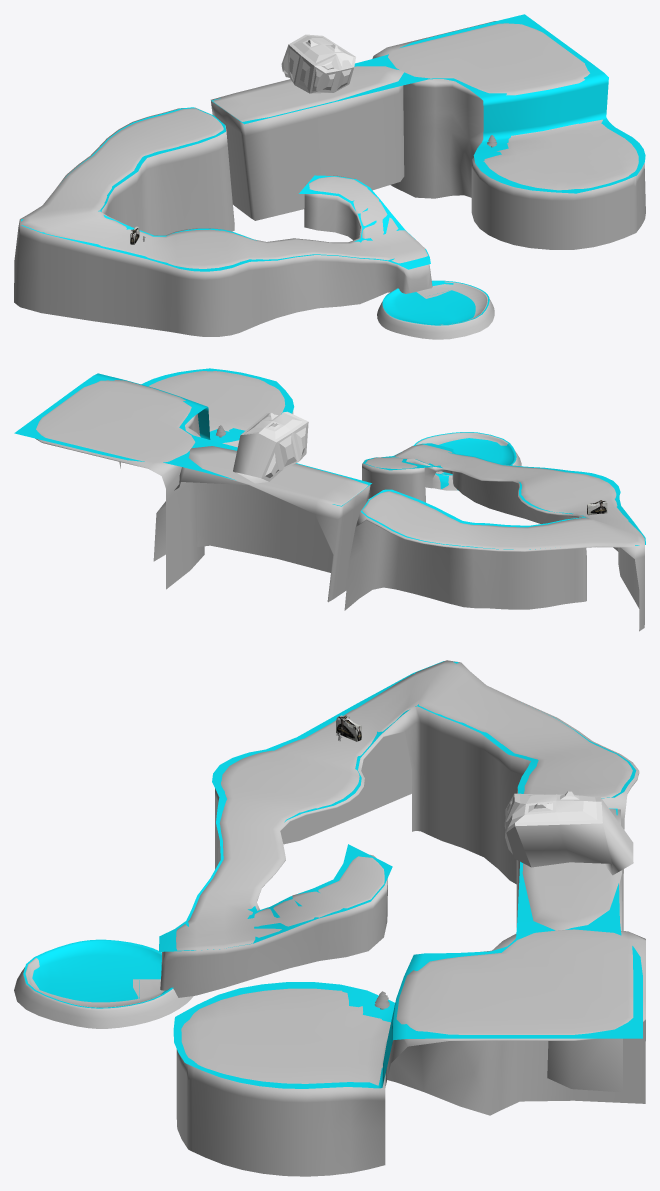
Rendered from sueLOW y sueHIGH.FBX.
3 renders of one model, top to bottom at view 1: azimuth 30°, elevation 25°; view 2: azimuth 150°, elevation 25°; view 3: azimuth 270°, elevation 25°, orthographic. The views are drawn at different scales.
Parts seen in each view (by area): view 1: Box013 (×2), Object003, Object001, Object002; view 2: Box013 (×2), Object003, Object001, Object002; view 3: Box013 (×2), Object003, Object001, Object002.
Boxes of the visible parts, x1,y1,x2,y2 form: Box013 (×2): (14, 14, 645, 336); Object003: (372, 21, 645, 249); Object001: (281, 34, 355, 93); Object002: (377, 281, 494, 339); Box013 (×2): (14, 368, 645, 631); Object003: (35, 371, 293, 589); Object001: (233, 411, 308, 483); Object002: (416, 432, 521, 490); Box013 (×2): (23, 660, 642, 1092); Object003: (176, 929, 645, 1176); Object001: (504, 791, 633, 875); Object002: (14, 958, 193, 1028).
Size of the model in its own units: 445 by 127 by 289.
